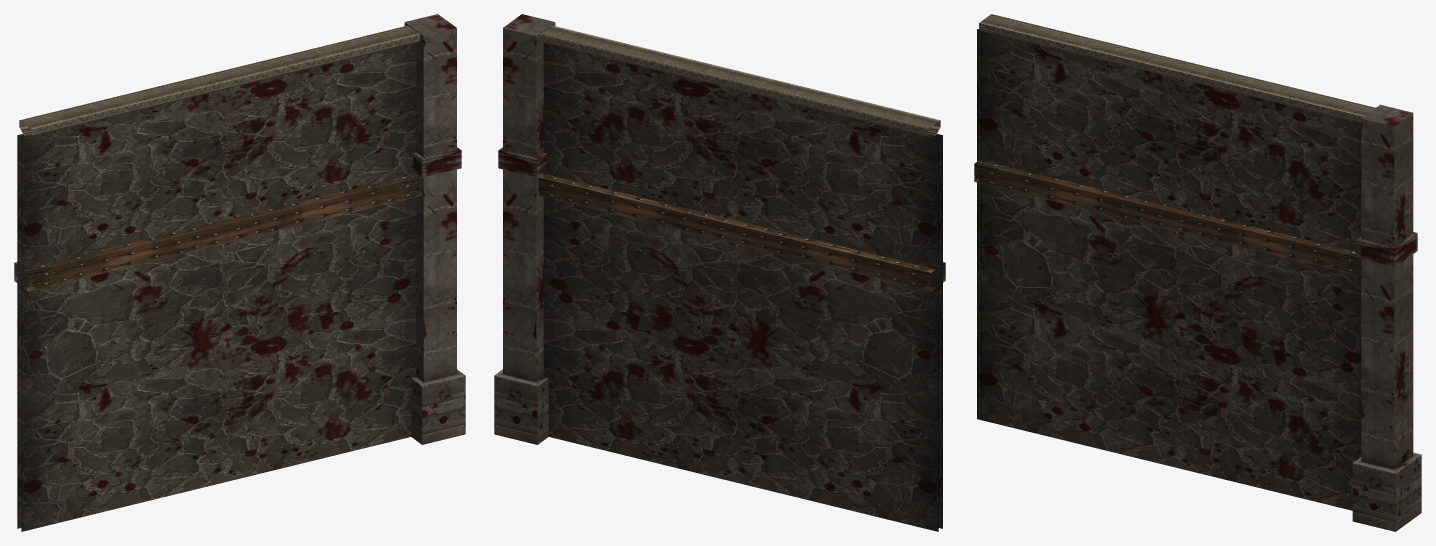
File: blsd_shiqiang_04.FBX
3 views of the same model, side by side, from view 1: azimuth 30°, elevation 25°; view 2: azimuth 150°, elevation 25°; view 3: azimuth 330°, elevation 25° (orthographic).
Visible parts, largest first — view 1: blsd_shiqiang_04; view 2: blsd_shiqiang_04; view 3: blsd_shiqiang_04.
Boxes of the visible parts, <box> form: blsd_shiqiang_04: <box>14,14,465,531</box>; blsd_shiqiang_04: <box>494,14,945,531</box>; blsd_shiqiang_04: <box>974,14,1421,531</box>.
Bounding box in the file's own units: 561 × 501 × 58.71.
